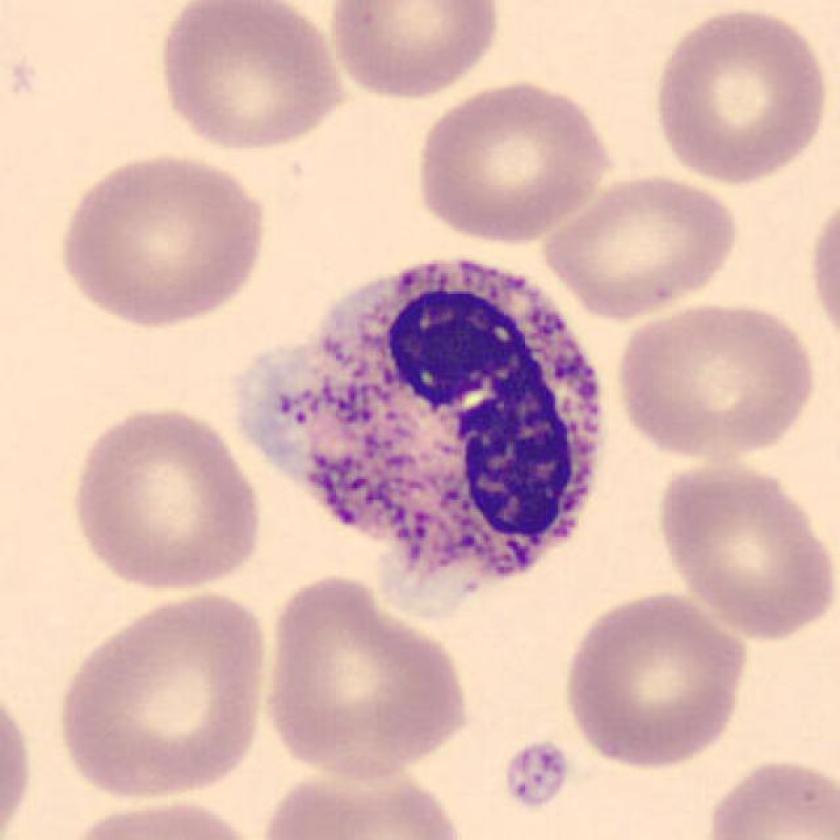neutrophil: (242, 262, 604, 622)
